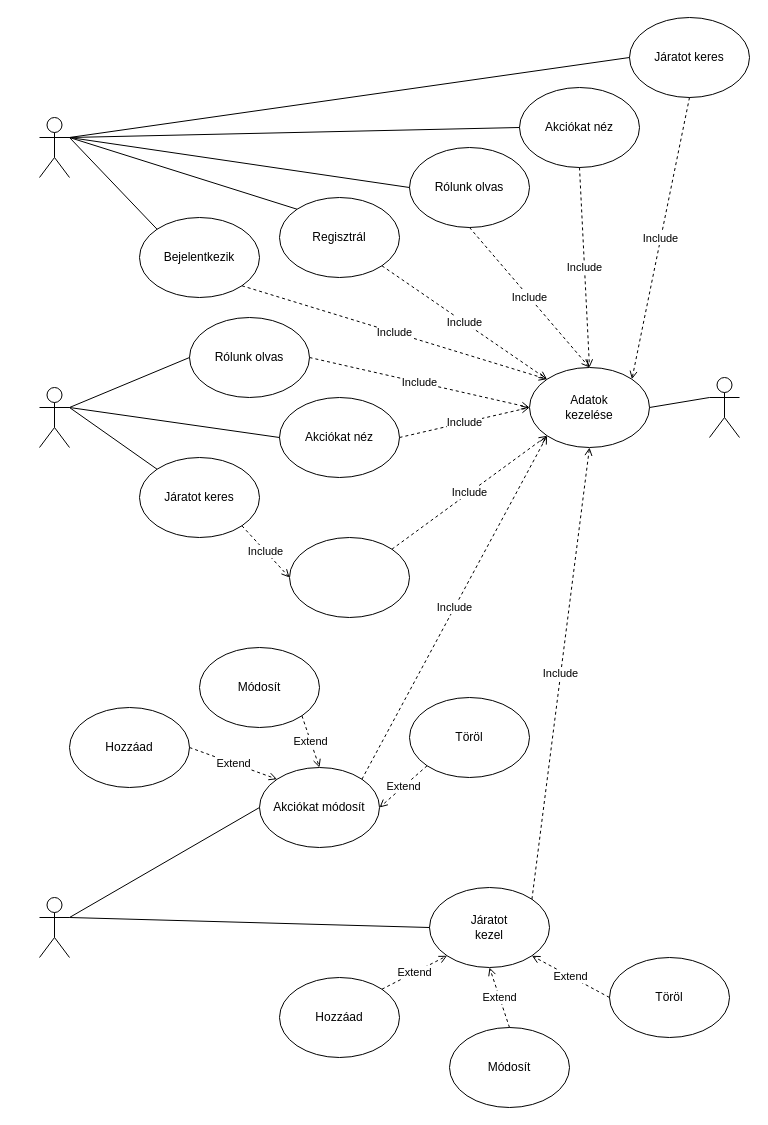
The diagram is 768 pixels wide and 1125 high, and some of its shapes have lost their labels. The shapes that lost their labels are listed below. From the top down, each one's centre as x and y in pixels, then its label:
At [54,147]: "Látogató".
At [54,417]: "Bejelentkezett Felhasználó".
At [724,407]: "Adatbázis".
At [349,577]: "Foglalás".
At [54,927]: "Admin Felhasználó".
